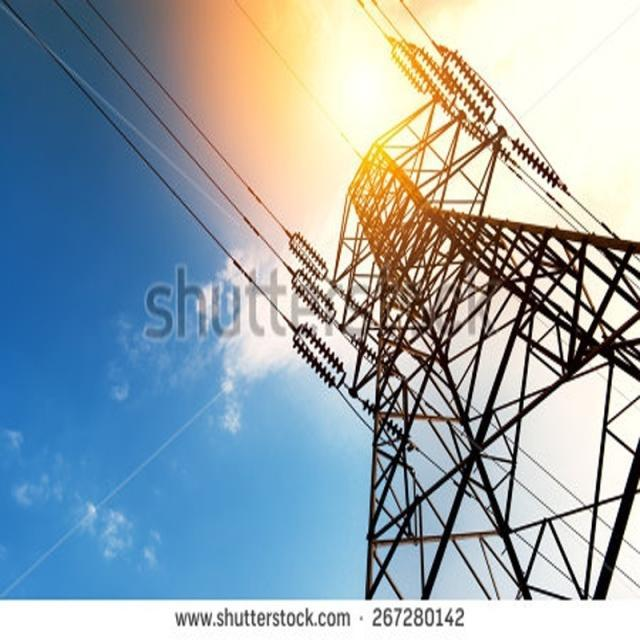non-critical vegetation: (287, 105, 635, 600)
